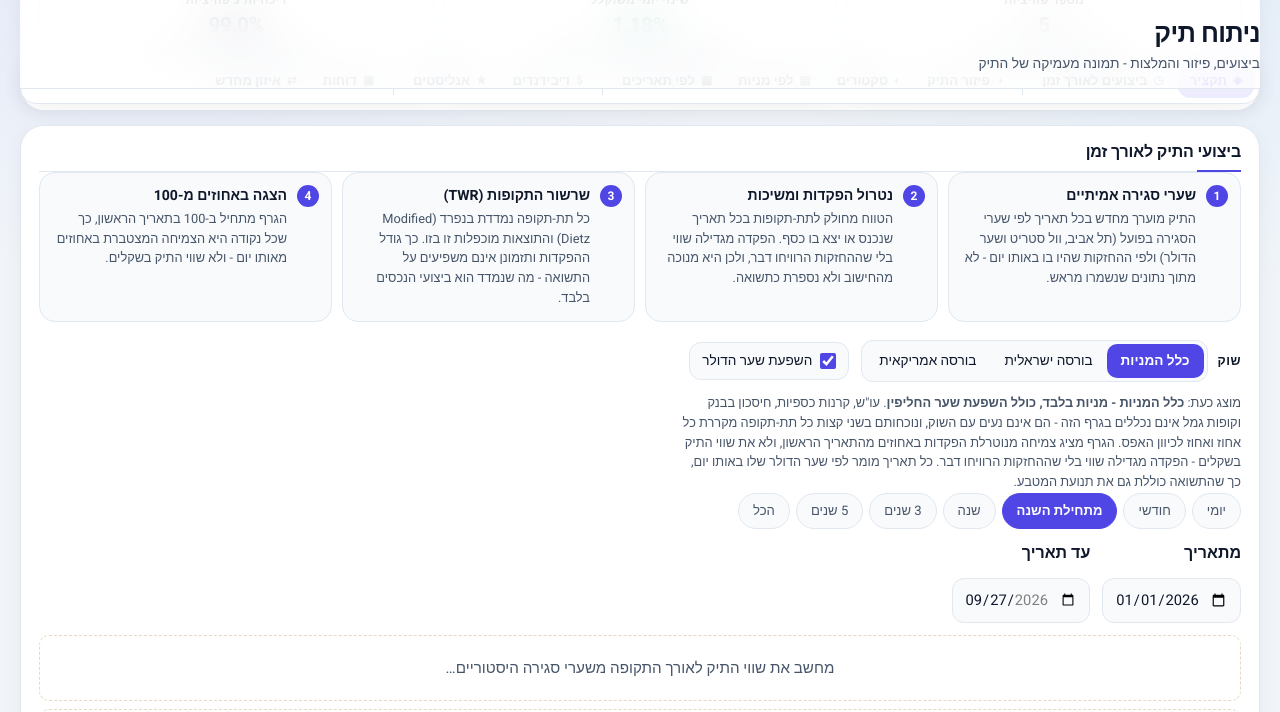
Test: PortfolioAnalysisView › market selection and the FX toggle › FX impact toggle › appears wherever the selection holds American lots, and not otherwise
This screenshot has width=1280, height=712.
(page scrolled)
Check: the checkbox labelled "השפעת שער הדולר" is shown, box [820, 353, 836, 369]
What coordinates should you click on to do the following:
click the button "בורסה ישראלית"
I would click on:
 (1049, 361)
Its box is [990, 344, 1107, 378].
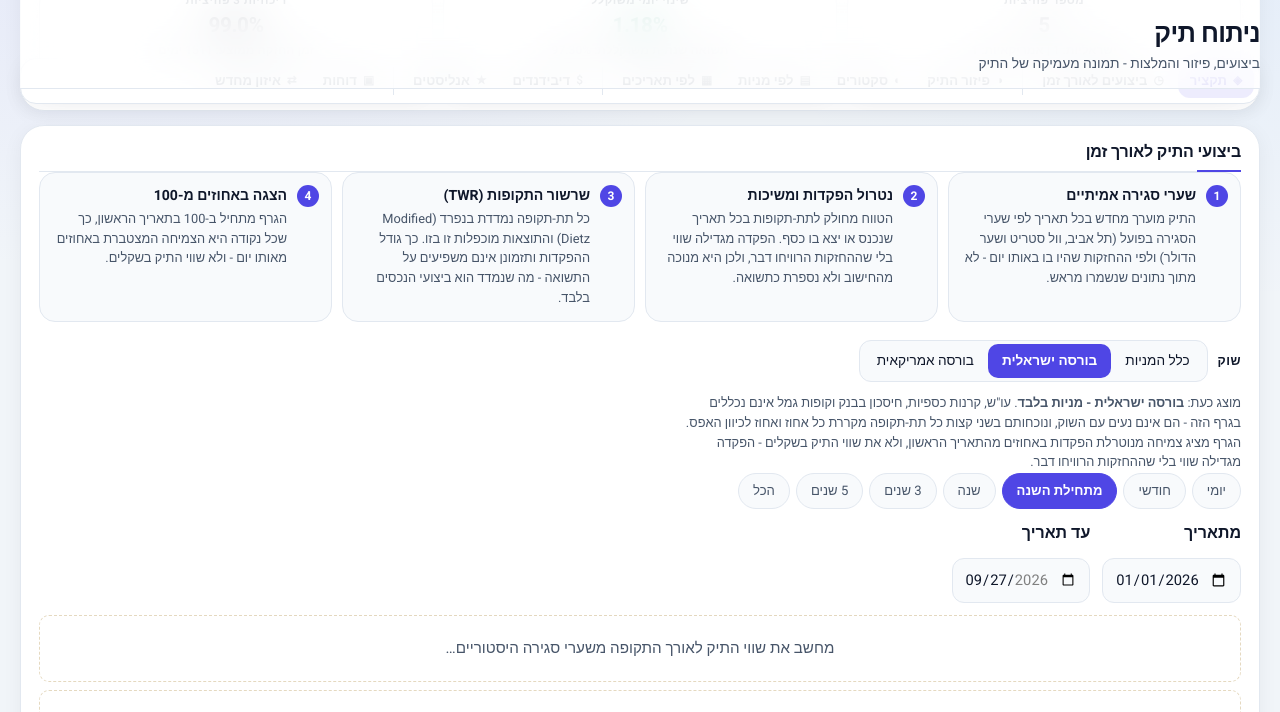
What coordinates should you click on to do the following:
click the button "בורסה אמריקאית"
I would click on:
 (925, 361)
Its box is [863, 344, 988, 378].
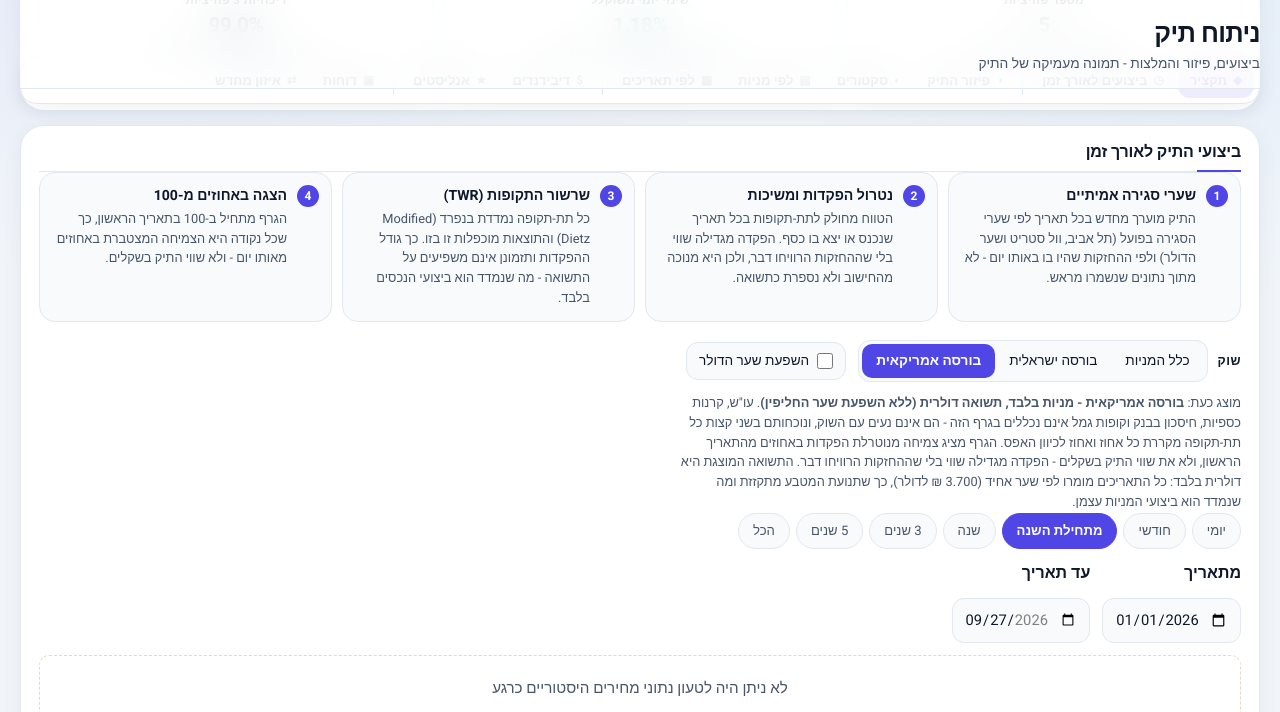
Check: the checkbox labelled "השפעת שער הדולר" is shown, box [817, 353, 833, 369]
